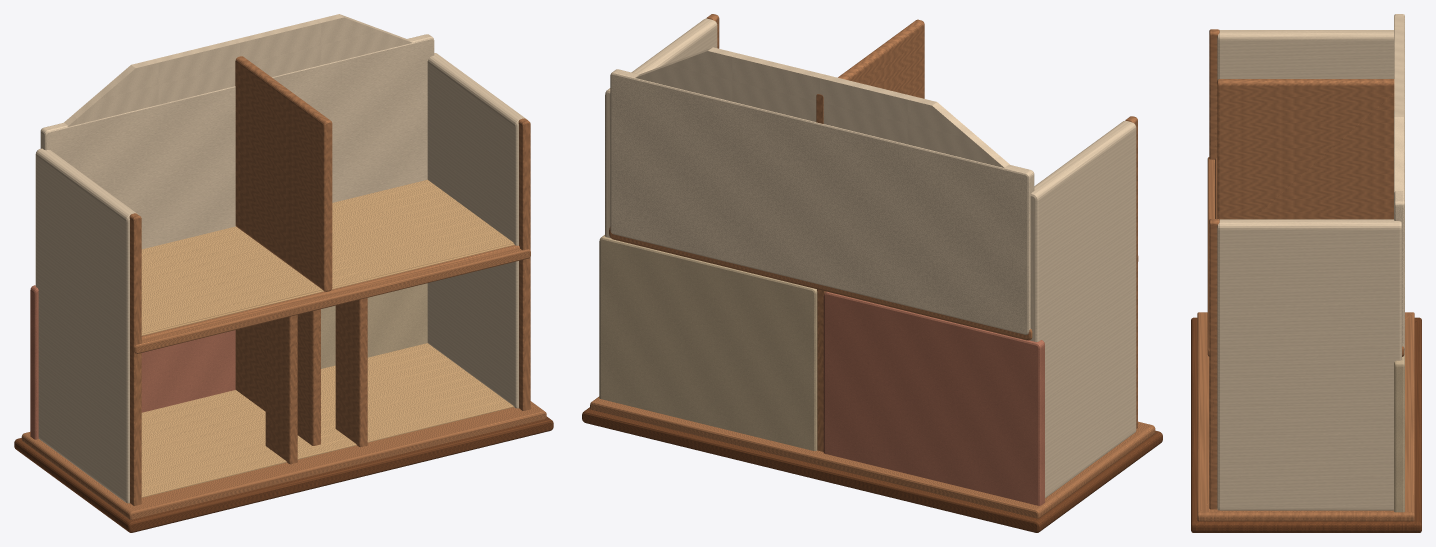
File: dollhouse_shell.glb
The picture shows the model from 3 angles, left to right: view 1: azimuth 30°, elevation 25°; view 2: azimuth 150°, elevation 25°; view 3: azimuth 270°, elevation 25°; orthographic projection. The views are drawn at different scales.
Parts seen in each view (by area): view 1: dollhouse_shell; view 2: dollhouse_shell; view 3: dollhouse_shell.
Boxes of the visible parts, left/top/right/bottom form: dollhouse_shell: left=14, top=14, right=553, bottom=532; dollhouse_shell: left=582, top=14, right=1162, bottom=532; dollhouse_shell: left=1191, top=14, right=1421, bottom=532.
Bounding box in the file's own units: 5.23 × 4.29 × 2.46.
6 materials, 6 textured.
